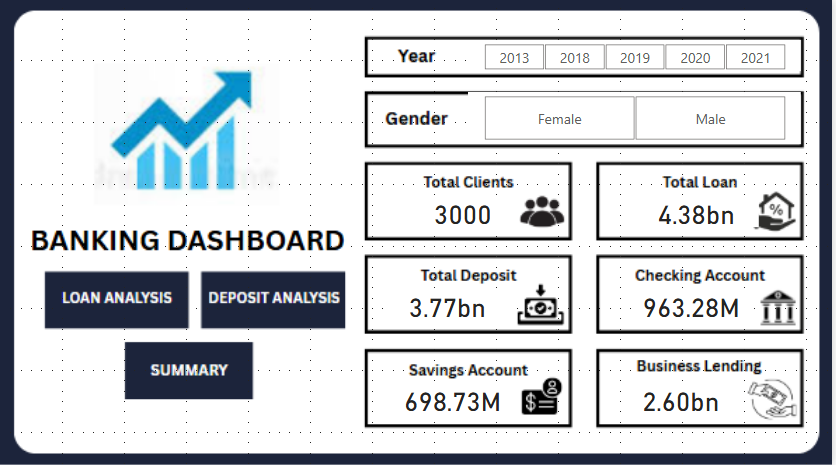

The dashboard page shown, as its layout file describes it:
{"tool":"powerbi","page":{"name":"Home","canvas":[1280,720],"ordinal":0},"visuals":[{"type":"card","fields":{"Values":["CountNonNull(banking_case customer.Name)"]},"box":[640,304,144,48],"z":0},{"type":"card","fields":{"Values":["banking_case customer.Total Loan"]},"box":[976,304,192,48],"z":1000},{"type":"card","fields":{"Values":["banking_case customer.Total Deposit"]},"box":[592,448,192,48],"z":2000},{"type":"card","fields":{"Values":["Sum(banking_case customer.Checking Accounts)"]},"box":[976,448,176,48],"z":3000},{"type":"card","fields":{"Values":["Sum(banking_case customer.Saving Accounts)"]},"box":[592,592,208,48],"z":4000},{"type":"card","fields":{"Values":["Sum(banking_case customer.Business Lending)"]},"box":[976,592,144,48],"z":5000},{"type":"slicer","fields":{"Values":["banking_case customer.GenderId"]},"box":[720,144,512,80],"z":6000},{"type":"slicer","fields":{"Values":["banking_case customer.Year of Joining"]},"box":[720,64,512,48],"z":7000},{"type":"actionButton","box":[64,416,224,96],"z":8000},{"type":"actionButton","box":[304,416,224,96],"z":9000},{"type":"actionButton","box":[192,528,199,96],"z":10000}]}

Visuals, with their boxes in screenshot pixels (x1, y1, x2, y2), scaled from the page's 1280x720 canvas onto the 836x465 screenshot:
card - CountNonNull(banking_case customer.Name): x1=418, y1=196, x2=512, y2=227
card - banking_case customer.Total Loan: x1=637, y1=196, x2=763, y2=227
card - banking_case customer.Total Deposit: x1=387, y1=289, x2=512, y2=320
card - Sum(banking_case customer.Checking Accounts): x1=637, y1=289, x2=752, y2=320
card - Sum(banking_case customer.Saving Accounts): x1=387, y1=382, x2=522, y2=413
card - Sum(banking_case customer.Business Lending): x1=637, y1=382, x2=732, y2=413
slicer - banking_case customer.GenderId: x1=470, y1=93, x2=805, y2=145
slicer - banking_case customer.Year of Joining: x1=470, y1=41, x2=805, y2=72
actionButton: x1=42, y1=269, x2=188, y2=331
actionButton: x1=199, y1=269, x2=345, y2=331
actionButton: x1=125, y1=341, x2=255, y2=403
